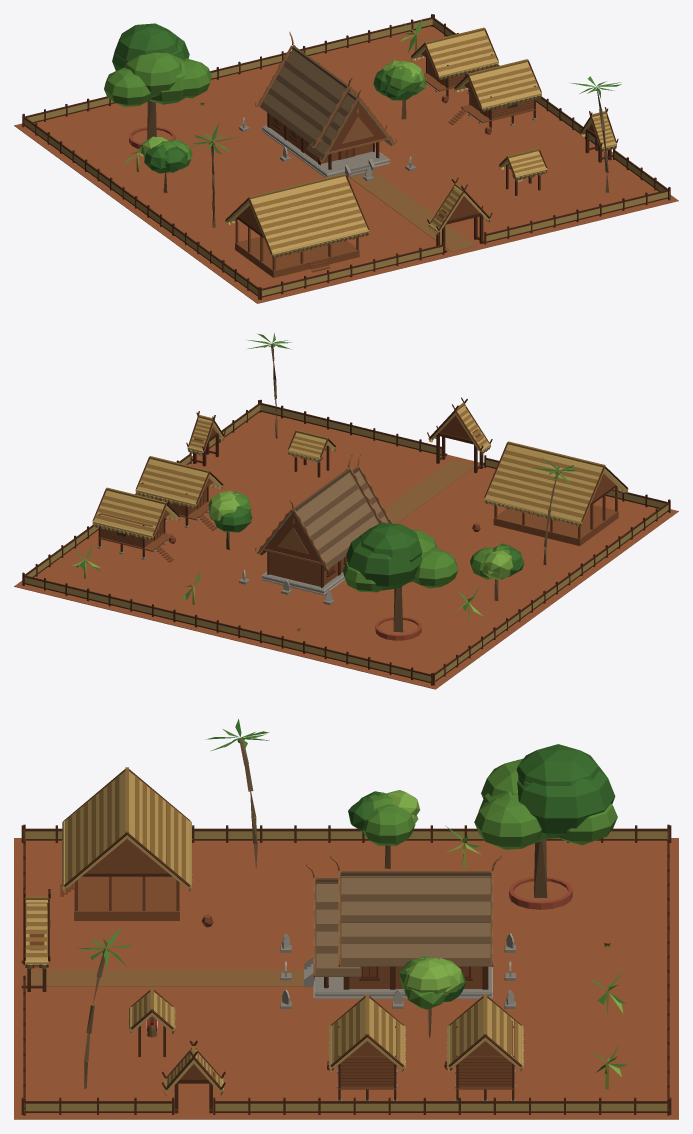
The model's file is temple_1.glb.
3 renders of one model, top to bottom at view 1: azimuth 30°, elevation 25°; view 2: azimuth 150°, elevation 25°; view 3: azimuth 270°, elevation 25°, orthographic. The views are drawn at different scales.
Visible parts, largest first — view 1: body; view 2: body; view 3: body.
Part boxes in pixels (<box>): body: <box>14,14,678,303</box>; body: <box>14,333,678,689</box>; body: <box>14,719,678,1119</box>.
Bounding box in the file's own units: 47.9 × 12.03 × 47.9.
